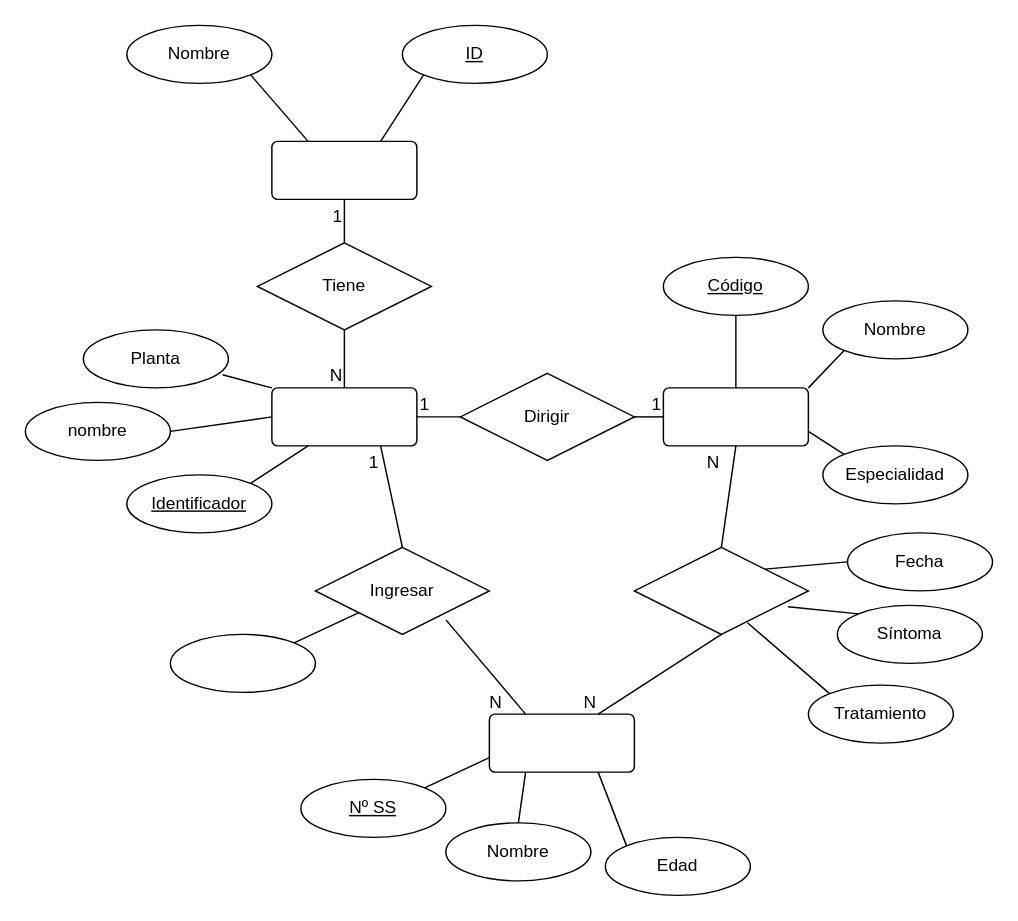
Image size: 1018x921. Some labels were removed from this diagram. Each missing label, with the centre of its shape:
Clínica: point (343, 169)
Doctor: point (735, 416)
FechaIngreso: point (242, 662)
Intervenir: point (720, 590)
Paciente: point (561, 742)
Unidad: point (343, 416)
